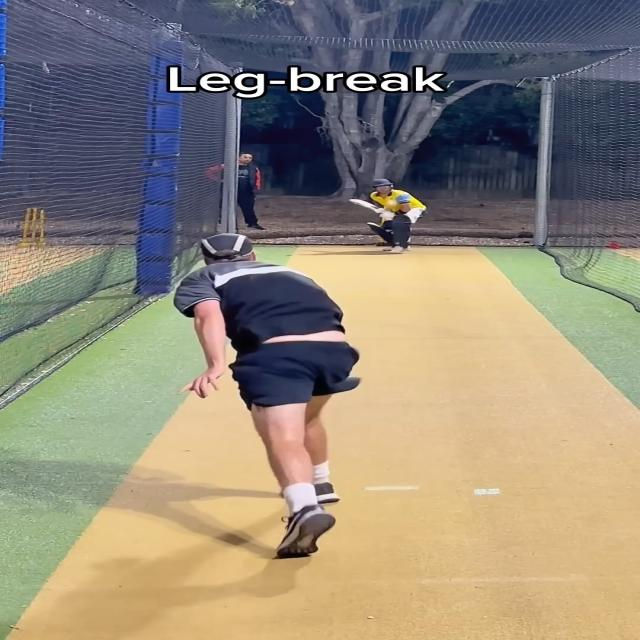Cricket ball: (387, 201, 397, 207)
